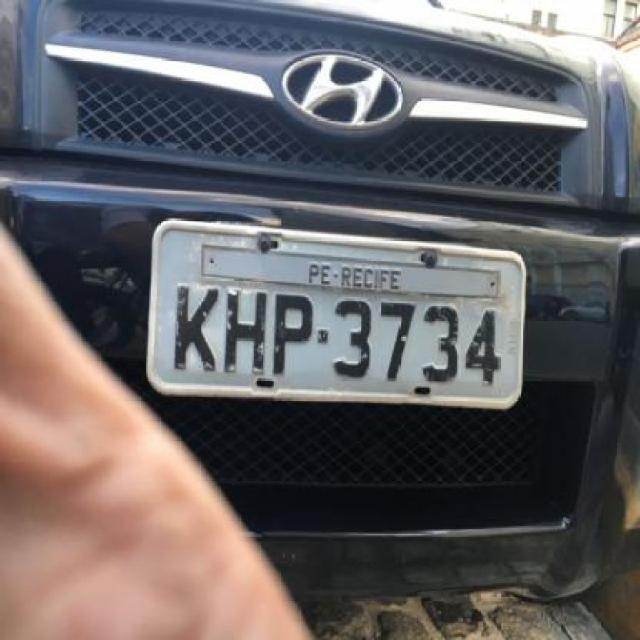old_plate: (142, 212, 534, 421)
